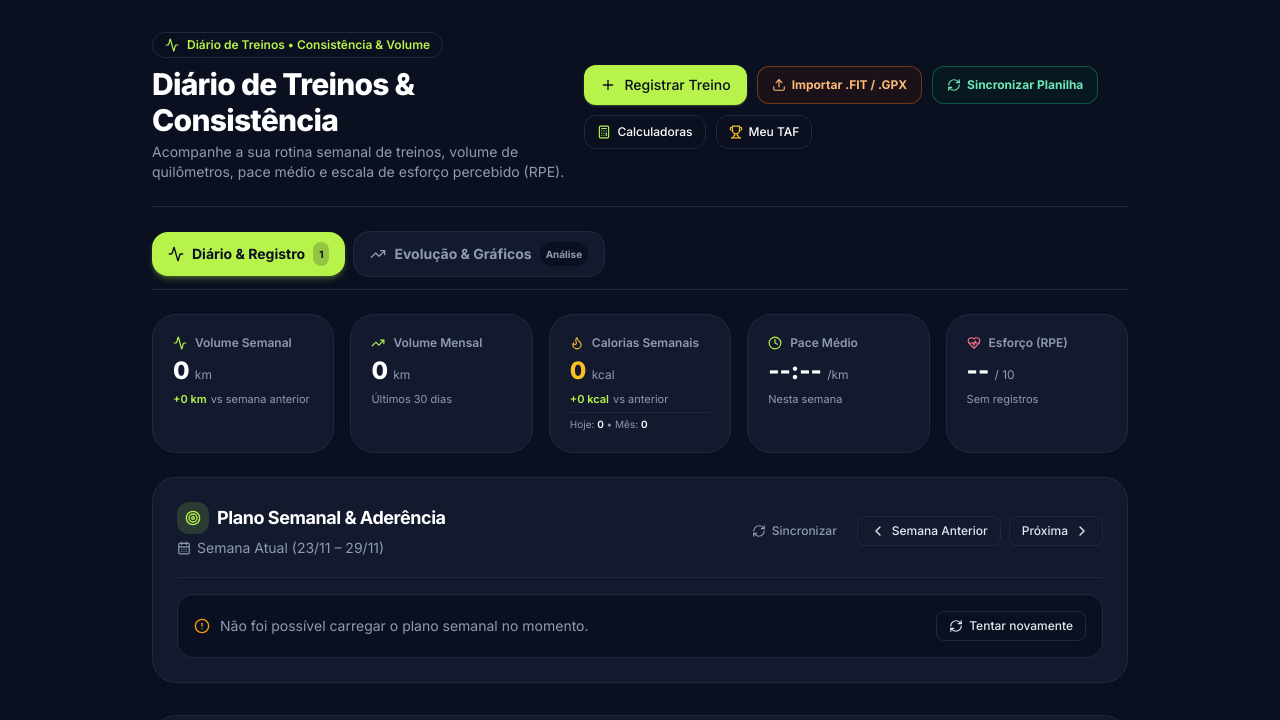
Fase 6 — Frontend & UX: Sincronização Google Sheets › 3. Botão 'Sincronizar Planilha' em /treinos › exibe mensagem orientativa em português quando Sheets não está configurado (503)
This screenshot has width=1280, height=720.
Click the button with test id "sync-sheets-btn" at {"x": 1015, "y": 85}, box [932, 66, 1098, 104]
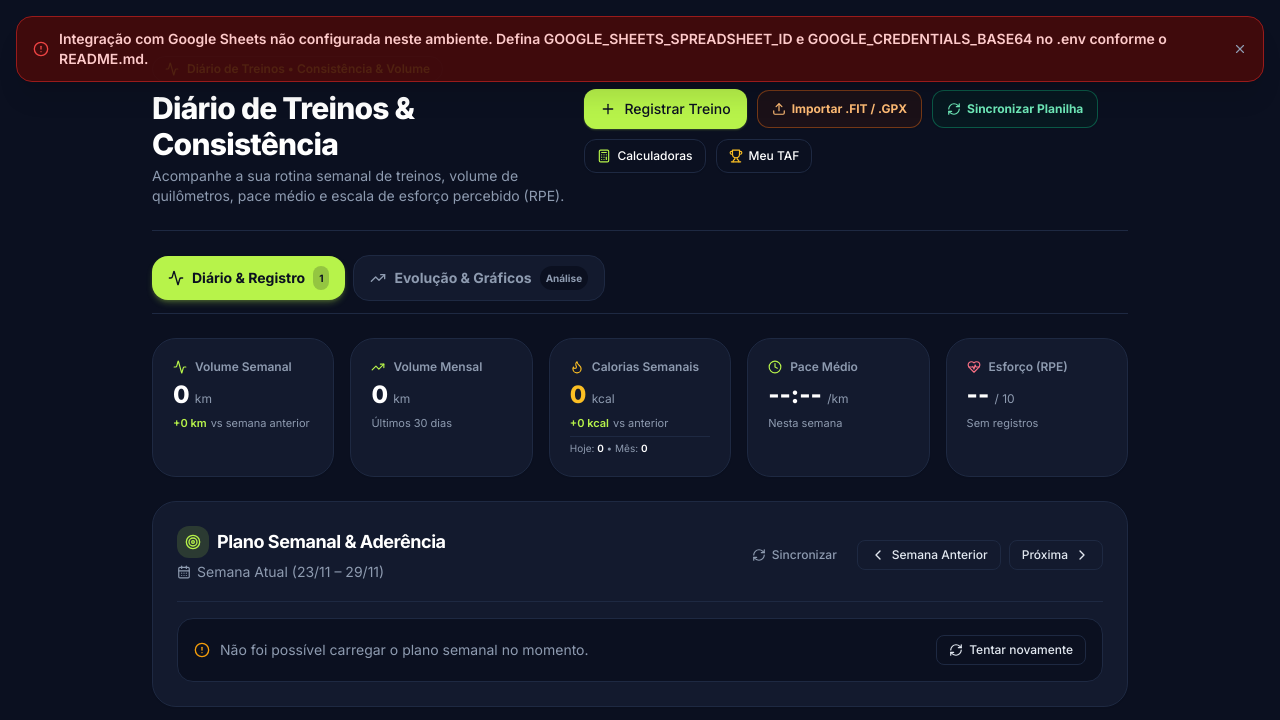
Now the element with test id "toast-notification" shows "não configurada", box [59, 30, 1167, 67]
Now the element with test id "toast-notification" shows "README.md", box [59, 30, 1167, 67]
